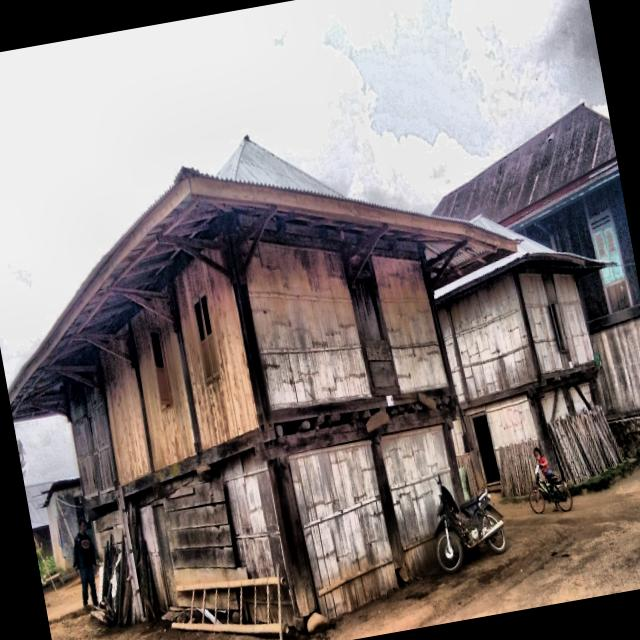column: (267, 456, 318, 616), (371, 437, 409, 581), (441, 421, 463, 504)
roof: (7, 136, 522, 422), (430, 103, 616, 223), (437, 215, 616, 300)
wall: (248, 243, 369, 407), (290, 442, 397, 616), (515, 175, 640, 321), (175, 261, 258, 447), (448, 271, 537, 399), (380, 425, 451, 574), (131, 310, 194, 469), (373, 256, 447, 391), (221, 453, 286, 576), (518, 274, 595, 373), (102, 353, 149, 483), (66, 381, 116, 495), (589, 316, 640, 420), (484, 392, 537, 446)
window: (588, 209, 626, 288), (194, 295, 219, 378), (354, 277, 384, 342), (150, 333, 172, 405), (548, 303, 569, 352)
